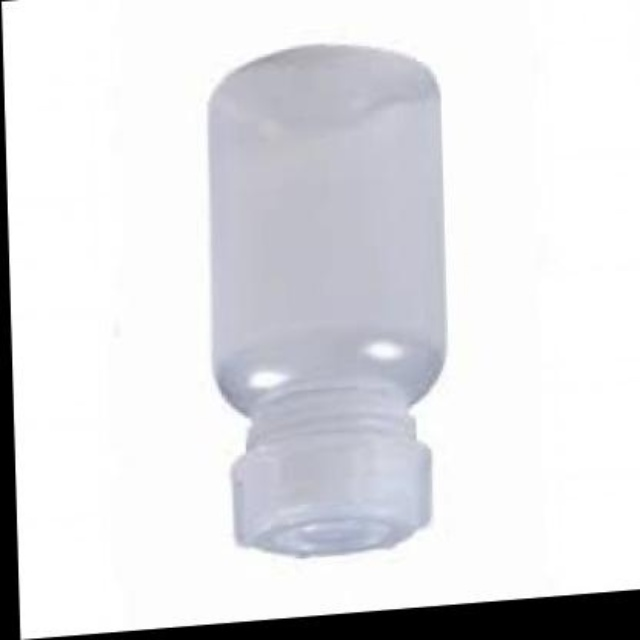trash: (209, 45, 443, 554)
